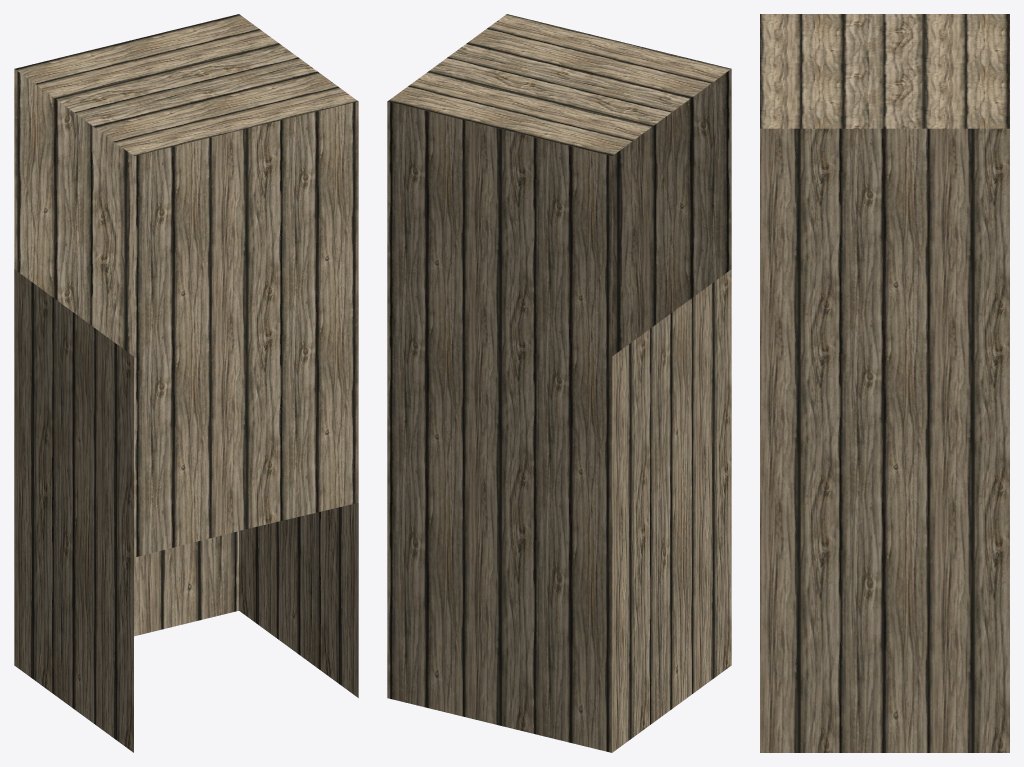
The model's file is LAKETOWN_WAREHOUSE2_PS_WH2_WALL838376.fbx.
3 views of the same model, side by side, from view 1: azimuth 30°, elevation 25°; view 2: azimuth 150°, elevation 25°; view 3: azimuth 270°, elevation 25° (orthographic). The views are drawn at different scales.
Parts seen in each view (by area): view 1: LAKETOWN_WAREHOUSE2_PS_WH2_WALL838376; view 2: LAKETOWN_WAREHOUSE2_PS_WH2_WALL838376; view 3: LAKETOWN_WAREHOUSE2_PS_WH2_WALL838376.
Boxes of the visible parts, x1=… form: LAKETOWN_WAREHOUSE2_PS_WH2_WALL838376: x1=14, y1=14, x2=358, y2=752; LAKETOWN_WAREHOUSE2_PS_WH2_WALL838376: x1=387, y1=14, x2=731, y2=752; LAKETOWN_WAREHOUSE2_PS_WH2_WALL838376: x1=760, y1=14, x2=1009, y2=752.
Bounding box in the file's own units: 23858 × 60575 × 21973.
1 material, 1 textured.
